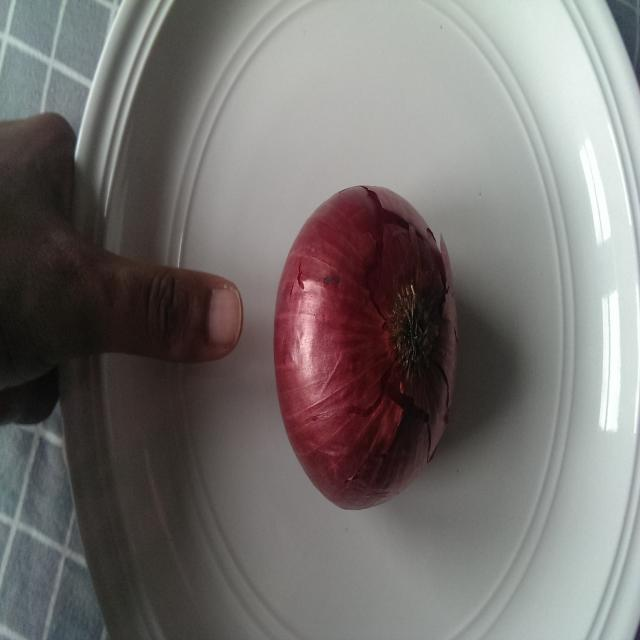onion: (272, 183, 458, 511)
